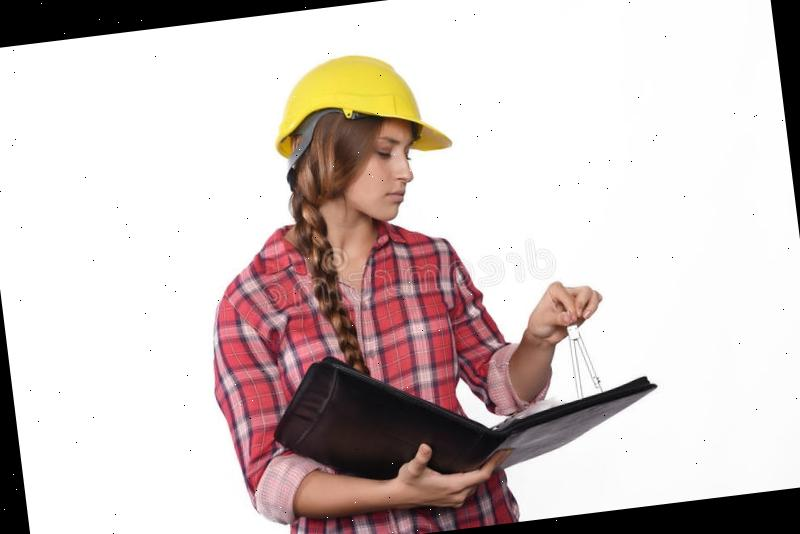helmet: (260, 43, 453, 174)
no_wear: (198, 233, 505, 534)
